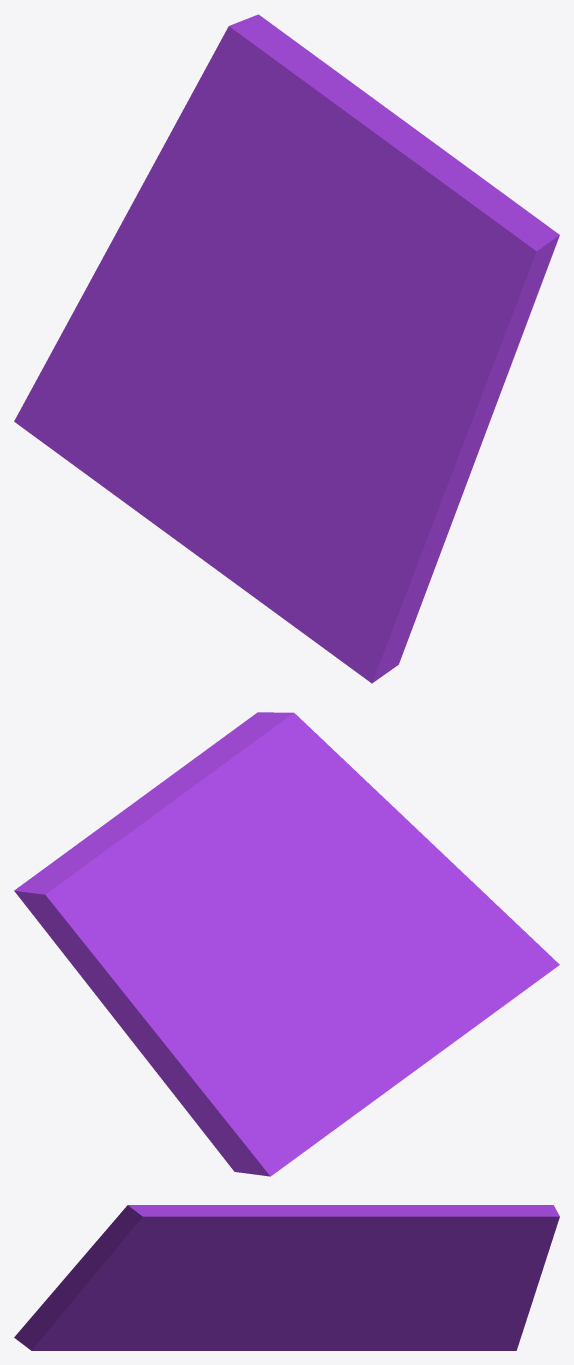
The model's file is Window_114.fbx.
3 views of the same model, one above another, from view 1: azimuth 30°, elevation 25°; view 2: azimuth 150°, elevation 25°; view 3: azimuth 270°, elevation 25° (orthographic). The views are drawn at different scales.
Parts seen in each view (by area): view 1: Window_114; view 2: Window_114; view 3: Window_114.
Boxes of the visible parts, x1,y1,x2,y2 form: Window_114: (14,14,559,683); Window_114: (14,712,559,1176); Window_114: (14,1205,559,1350).
Size of the model in its own units: 720 by 763 by 1750.
